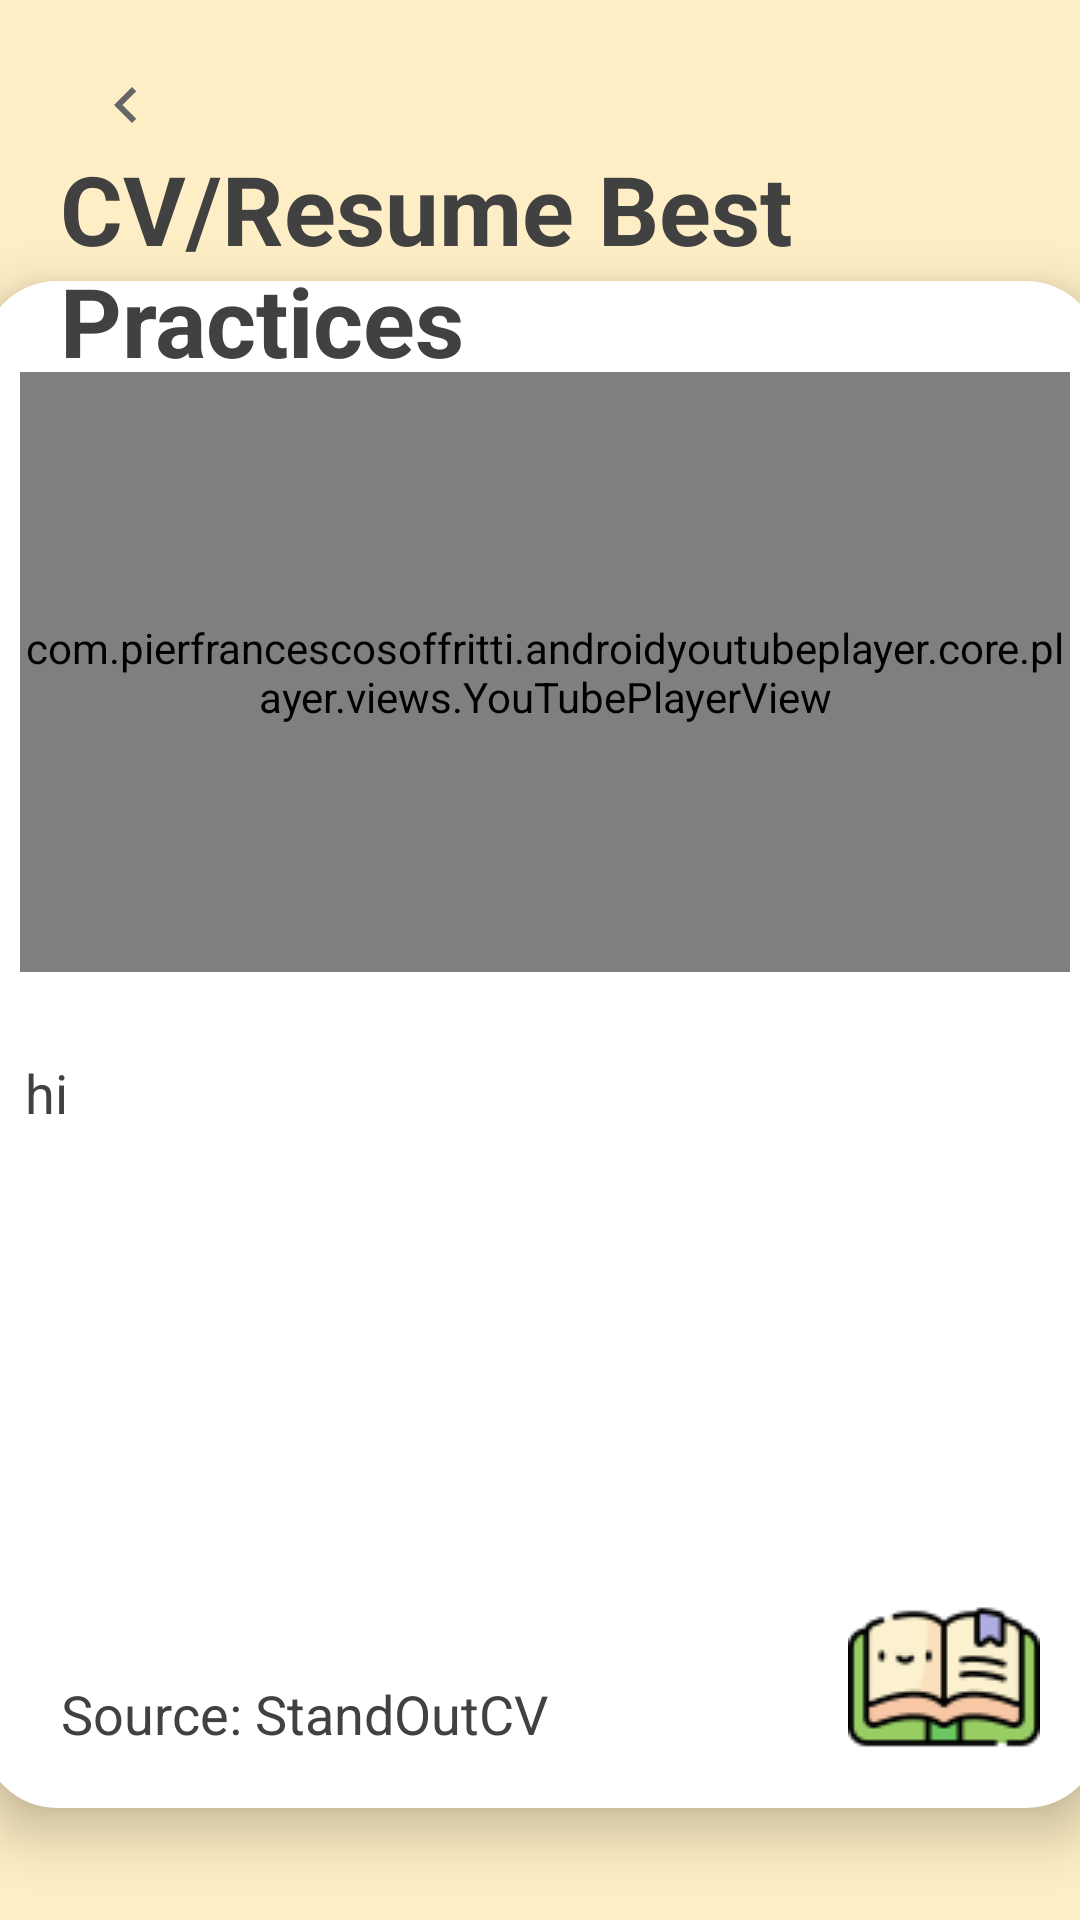

Icons on this 1080 x 1920 Android screen, each with the point to tap as (x=x, y=y):
left: (x=125, y=105)
reading: (x=944, y=1677)
